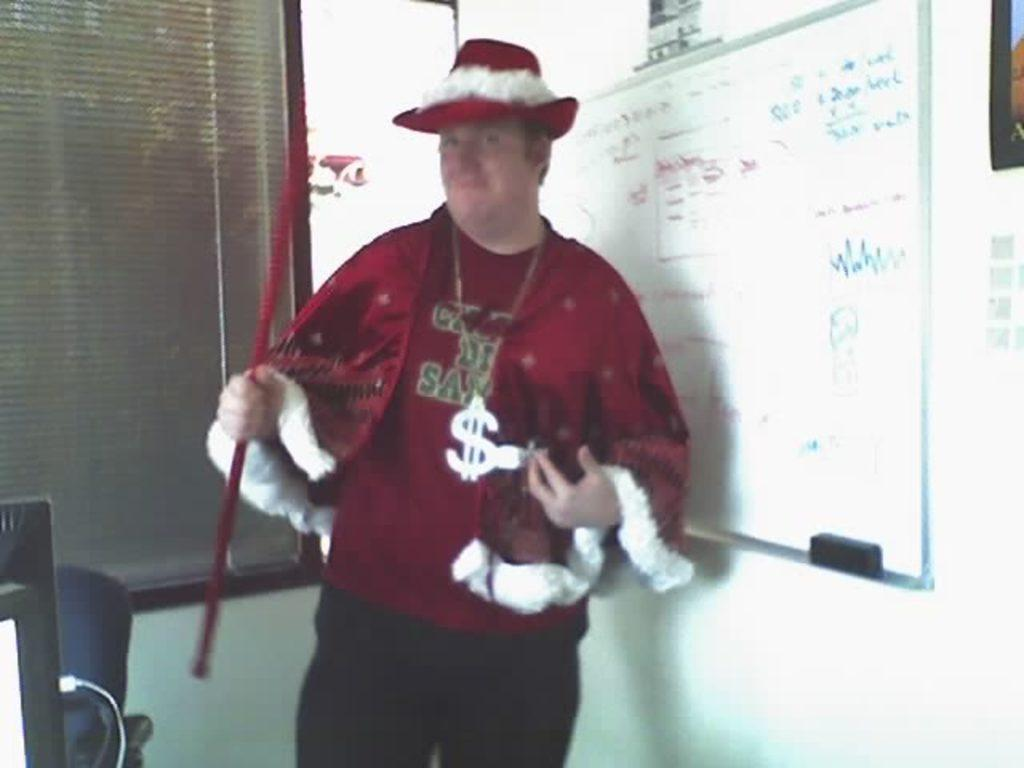Hat: (392, 34, 582, 136)
